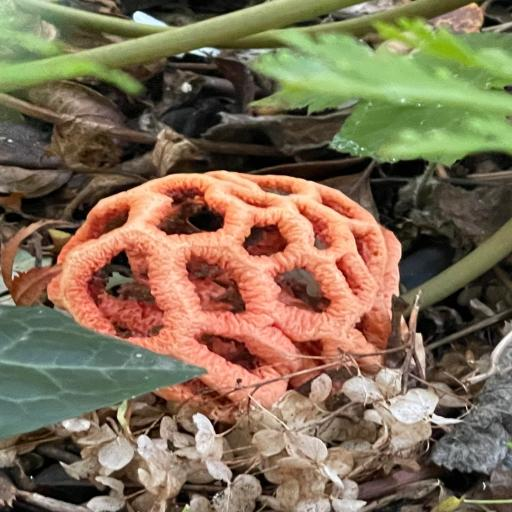Red Cage Fungus: (57, 172, 426, 410)
